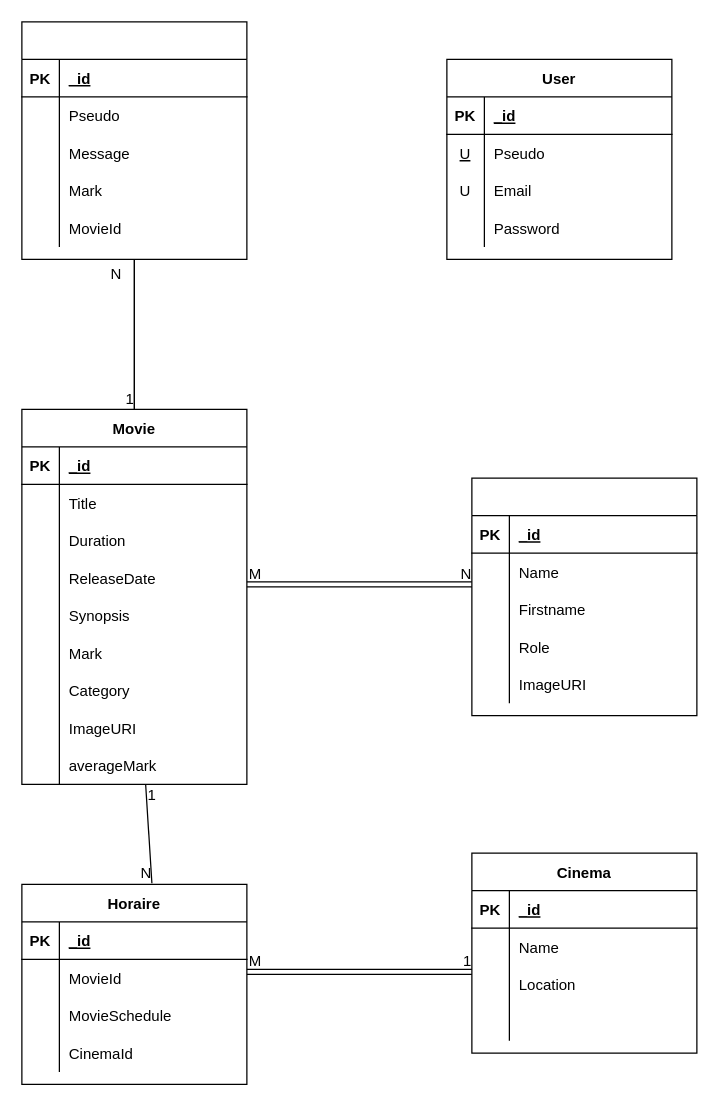
This 719x1106 diagram has some shape labels left out. The box of each missing label's shape, as (x1, y1, x2, y2) in pixels:
Actor: (471, 477, 697, 716)
Review: (21, 21, 247, 259)
